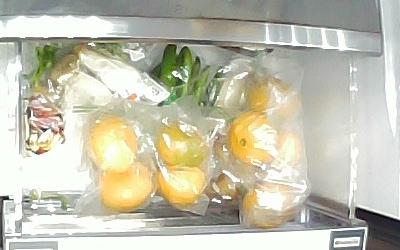tangerine_vinyl: (244, 174, 305, 227), (87, 116, 138, 174), (229, 111, 280, 169), (158, 116, 209, 169), (246, 75, 301, 124), (100, 163, 153, 213), (158, 166, 206, 209), (276, 130, 300, 166)
